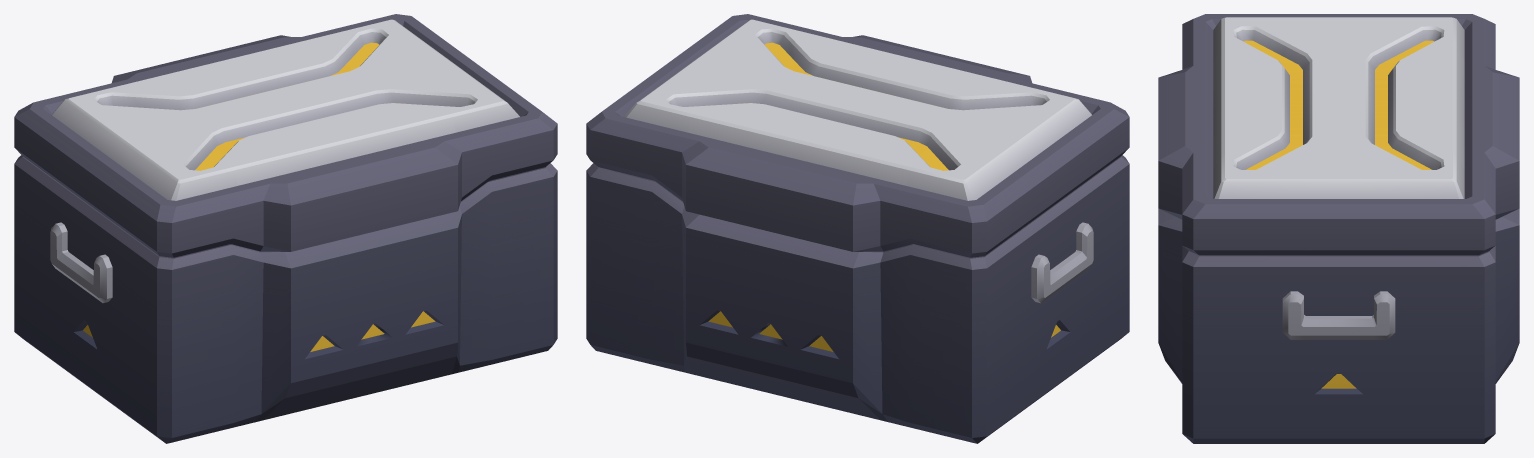
File: AmmoBox A.fbx
3 renders of one model, left to right at view 1: azimuth 30°, elevation 25°; view 2: azimuth 150°, elevation 25°; view 3: azimuth 270°, elevation 25°, orthographic. The views are drawn at different scales.
Visible parts, largest first — view 1: Ammo Box A, Ammo Box A.001; view 2: Ammo Box A, Ammo Box A.001; view 3: Ammo Box A.001, Ammo Box A.
Boxes of the visible parts, bbox=[...] form: Ammo Box A: bbox=[14, 155, 557, 443]; Ammo Box A.001: bbox=[14, 14, 557, 257]; Ammo Box A: bbox=[586, 155, 1129, 443]; Ammo Box A.001: bbox=[586, 14, 1129, 257]; Ammo Box A.001: bbox=[1158, 14, 1519, 255]; Ammo Box A: bbox=[1158, 208, 1519, 443].
Size of the model in its own units: 0.7908 by 0.4403 by 0.5755.
